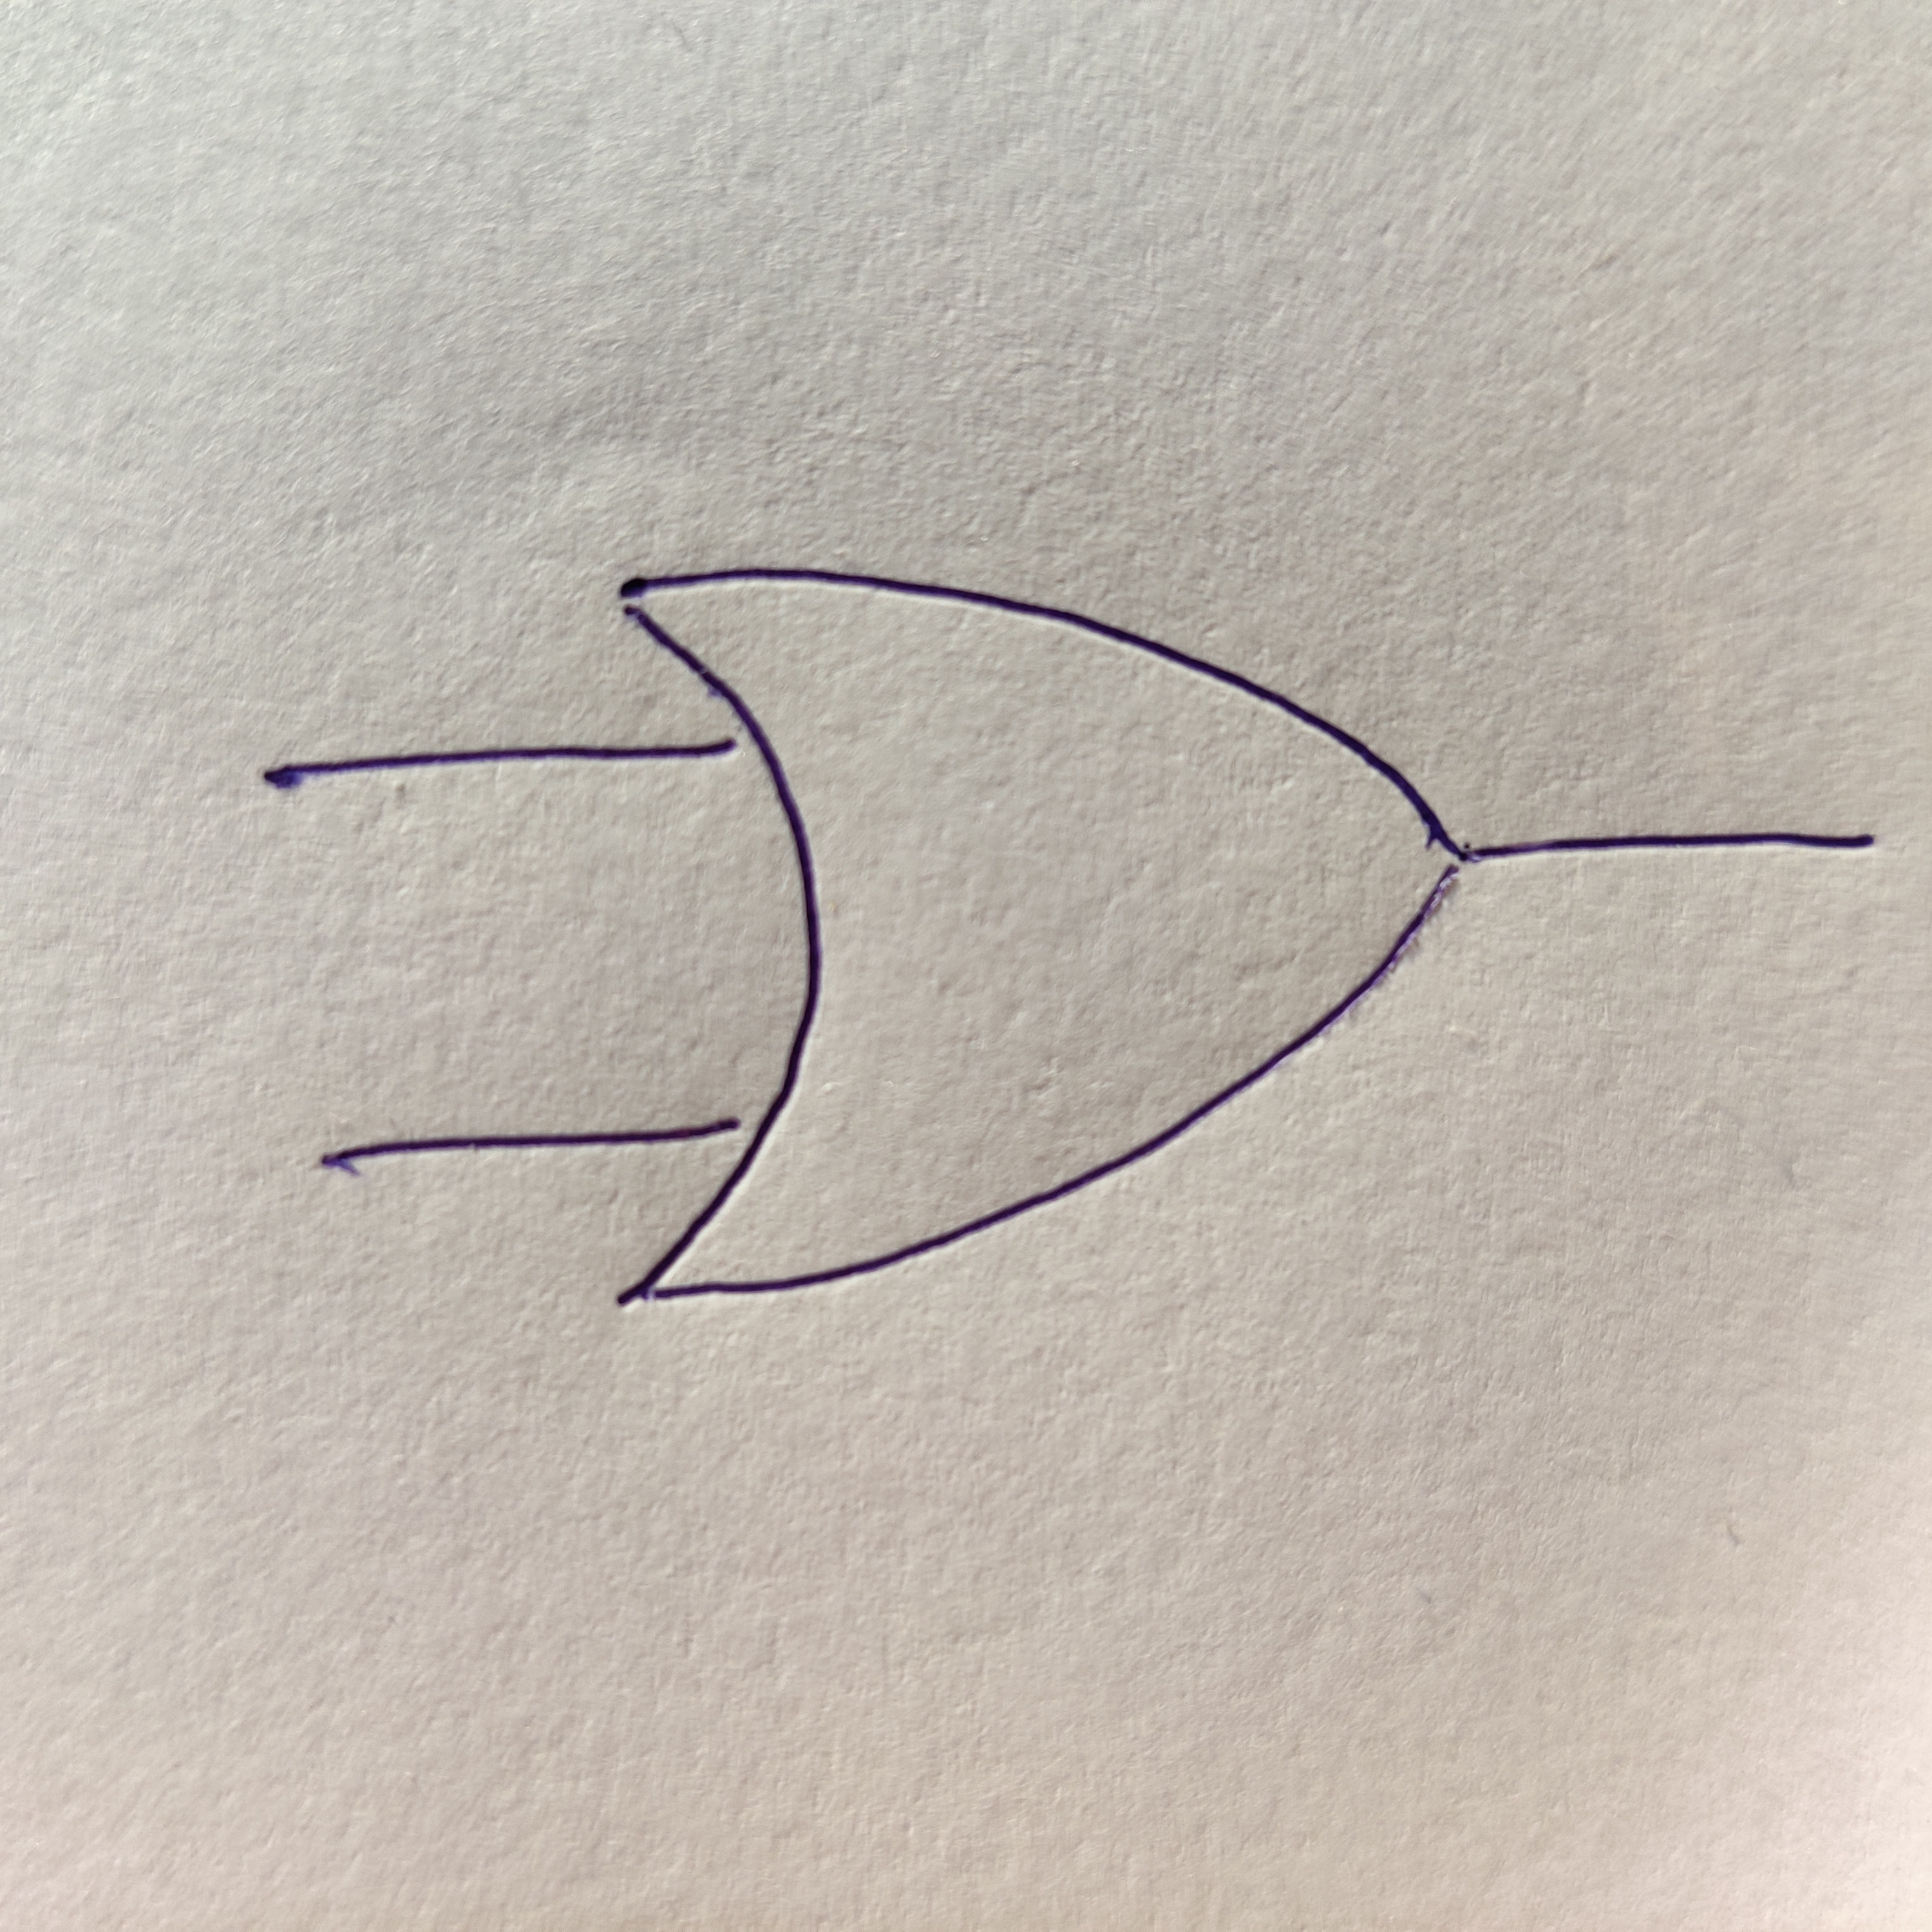or: (619, 566, 1468, 1300)
